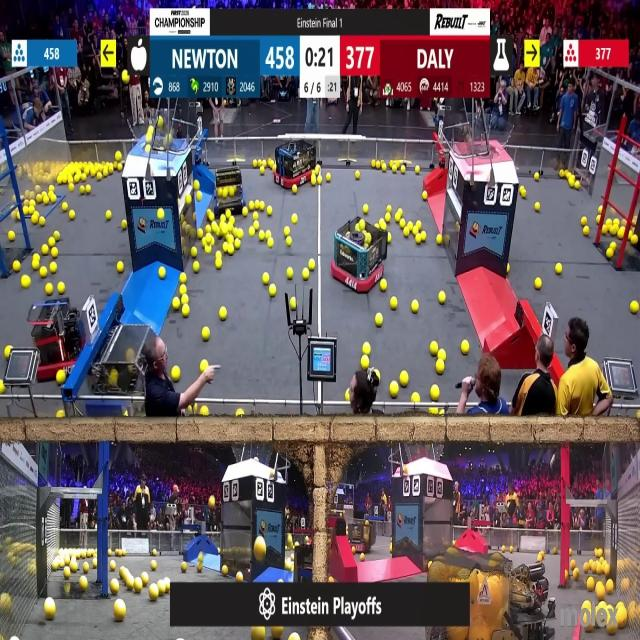ball_airborne: (253, 536, 266, 560), (121, 70, 128, 83), (209, 496, 216, 508), (147, 127, 154, 137), (158, 116, 165, 126), (115, 151, 121, 160), (167, 136, 173, 145), (144, 144, 150, 152)
ball_ground: (114, 601, 125, 621), (617, 610, 628, 630), (44, 599, 54, 620), (252, 626, 264, 640), (272, 626, 284, 640), (596, 585, 606, 600), (399, 372, 408, 387), (149, 586, 158, 601), (606, 623, 616, 636), (160, 582, 170, 595), (429, 386, 438, 400), (110, 581, 119, 595), (390, 382, 398, 397), (126, 575, 134, 590), (461, 341, 469, 355), (58, 372, 66, 386), (429, 342, 437, 356), (172, 366, 180, 380), (360, 356, 369, 368), (412, 301, 420, 314), (605, 582, 613, 595), (80, 576, 88, 589), (141, 572, 149, 585), (203, 326, 210, 340), (362, 343, 370, 355), (630, 302, 638, 314), (22, 276, 30, 288), (181, 306, 189, 318), (380, 280, 388, 292), (134, 581, 142, 593), (172, 299, 180, 311), (602, 564, 610, 576), (289, 296, 296, 309), (438, 360, 445, 373), (588, 579, 595, 592), (201, 408, 210, 418), (32, 261, 40, 272), (631, 236, 639, 247), (420, 233, 428, 244), (59, 282, 66, 294), (556, 264, 563, 276), (534, 278, 541, 290), (220, 308, 227, 320), (45, 283, 52, 295), (376, 314, 383, 326), (390, 296, 397, 308), (270, 284, 277, 296), (12, 262, 19, 274), (4, 347, 11, 359), (412, 392, 420, 402), (180, 294, 188, 304), (439, 291, 446, 302), (286, 269, 293, 280), (116, 263, 123, 274), (198, 228, 205, 239), (619, 228, 626, 239), (160, 268, 166, 280), (183, 562, 189, 574), (307, 261, 313, 273), (64, 566, 70, 578), (568, 176, 574, 188), (225, 223, 233, 232), (49, 264, 56, 274), (303, 270, 310, 280), (439, 350, 446, 360), (180, 284, 187, 294), (201, 360, 208, 370), (606, 249, 613, 259), (237, 571, 244, 581), (582, 226, 589, 236), (435, 236, 442, 246), (211, 222, 218, 232), (185, 193, 192, 203), (257, 202, 264, 212), (571, 568, 578, 578), (378, 220, 385, 230), (284, 560, 291, 570), (192, 263, 198, 274), (264, 274, 270, 285), (221, 565, 227, 576), (40, 268, 46, 279), (83, 562, 89, 573), (208, 236, 214, 247), (58, 412, 66, 420), (285, 238, 292, 247), (584, 600, 591, 609), (237, 230, 244, 239), (180, 274, 186, 284), (42, 245, 48, 255), (216, 261, 222, 271), (50, 248, 56, 258), (190, 248, 196, 258), (0, 382, 5, 394), (258, 232, 264, 242), (227, 246, 233, 256), (106, 210, 112, 220), (70, 211, 76, 221), (55, 232, 61, 242), (284, 226, 290, 236), (32, 214, 38, 224), (422, 190, 428, 200), (198, 563, 204, 573), (192, 180, 198, 190), (312, 176, 318, 186), (416, 235, 422, 245), (399, 218, 405, 228), (49, 193, 55, 203), (222, 242, 228, 252), (588, 624, 594, 634), (253, 210, 259, 220), (402, 230, 409, 238), (429, 409, 437, 416), (219, 214, 226, 222), (225, 235, 232, 243), (237, 411, 244, 419), (599, 601, 606, 609), (236, 240, 242, 249), (268, 207, 274, 216), (362, 205, 368, 214), (291, 214, 297, 223), (8, 233, 14, 242), (120, 220, 126, 229), (150, 561, 156, 570), (416, 221, 422, 230), (62, 203, 68, 212), (385, 214, 391, 223), (48, 238, 54, 247), (601, 225, 607, 234), (68, 182, 74, 191), (119, 567, 125, 576), (202, 239, 208, 248), (579, 217, 585, 226), (43, 197, 49, 206), (253, 221, 259, 230), (119, 161, 125, 170), (208, 212, 214, 221), (74, 174, 80, 183), (24, 207, 30, 216), (114, 163, 120, 172), (290, 634, 299, 640), (33, 195, 39, 204), (249, 202, 254, 212), (585, 563, 590, 573), (230, 216, 237, 223), (243, 208, 249, 216), (291, 185, 297, 193), (534, 173, 540, 181), (609, 242, 615, 250), (93, 560, 99, 568), (205, 246, 211, 254), (325, 174, 331, 182), (87, 185, 93, 193), (199, 554, 205, 562), (386, 205, 392, 213), (80, 174, 86, 182), (110, 562, 116, 570), (408, 220, 414, 228), (537, 554, 543, 562), (382, 165, 388, 173), (269, 160, 275, 168), (91, 168, 97, 176), (269, 239, 274, 248), (249, 229, 254, 238), (534, 203, 539, 212), (195, 190, 200, 199), (39, 217, 44, 226), (79, 185, 84, 194), (267, 231, 272, 240), (395, 214, 400, 223), (574, 181, 579, 190), (225, 210, 230, 219), (98, 172, 103, 181), (376, 368, 381, 377), (58, 175, 63, 184), (596, 216, 602, 223), (216, 251, 222, 258), (315, 167, 321, 174), (598, 207, 604, 214), (388, 234, 392, 244), (400, 167, 405, 175), (570, 560, 575, 568), (48, 184, 53, 192), (370, 161, 375, 169), (398, 208, 403, 216), (584, 616, 589, 624), (356, 171, 360, 180), (252, 162, 258, 168), (416, 168, 421, 175), (392, 167, 397, 174), (328, 576, 333, 583), (564, 569, 569, 576), (360, 554, 364, 562), (522, 190, 526, 198), (346, 392, 350, 400), (104, 169, 108, 177), (151, 551, 156, 557), (260, 168, 264, 175), (352, 546, 356, 553), (560, 171, 564, 178), (568, 550, 572, 557), (108, 550, 112, 557), (506, 266, 509, 275), (387, 546, 390, 554), (123, 413, 127, 419), (554, 547, 558, 553), (188, 408, 192, 414), (441, 411, 445, 416), (279, 578, 284, 582)
goal: (461, 118, 517, 158), (126, 117, 185, 153)
robot_blue: (82, 323, 138, 414), (210, 161, 246, 215), (0, 163, 13, 225)
robot_red: (32, 305, 87, 384), (506, 558, 558, 640), (331, 218, 386, 292), (273, 140, 318, 190), (346, 519, 372, 553)
